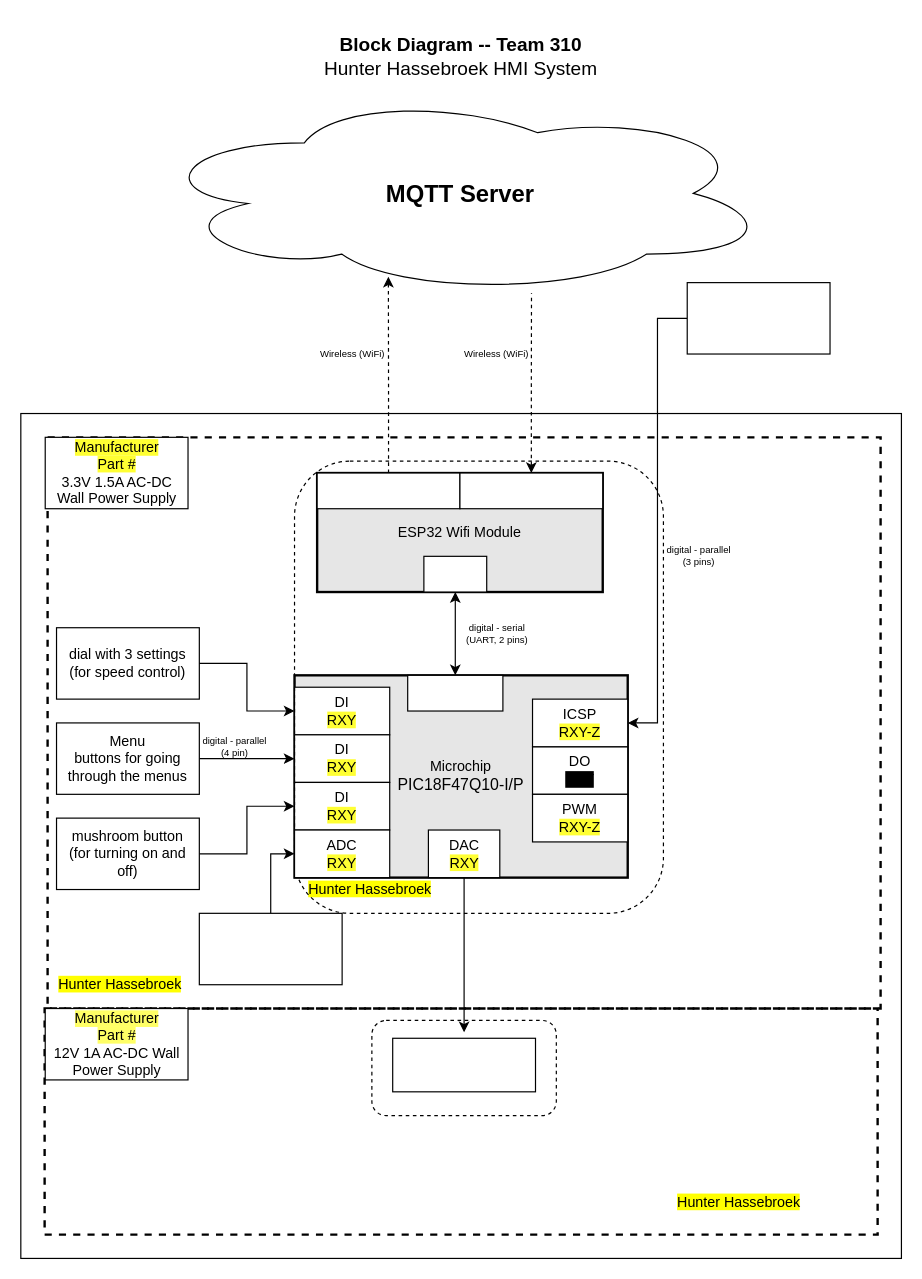
Image size: 922x1279. Some labels were removed from this diagram. Each missing label, with the centre of its shape:
"3.3 Volt voltage regulator" goes at (x=270, y=948).
"Downstream module" goes at (x=531, y=490).
"Microchip Snap Programmer" goes at (x=758, y=317).
"OLED Display" goes at (x=464, y=1064).
"SERIAL RX,TX" goes at (x=455, y=573).
"UART RXY-Z" goes at (x=455, y=692).
"Upstream module" goes at (x=388, y=490).
